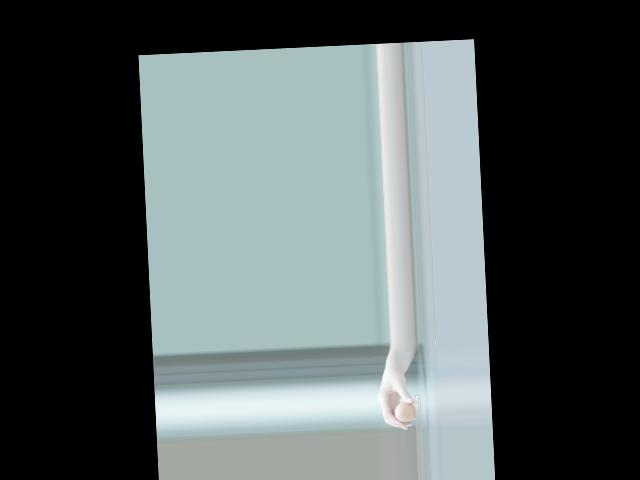egg: (394, 401, 417, 423)
